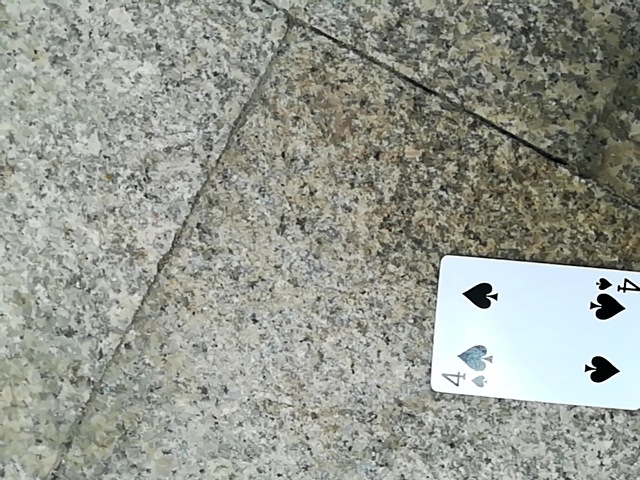ht 4: (431, 254, 639, 416)
